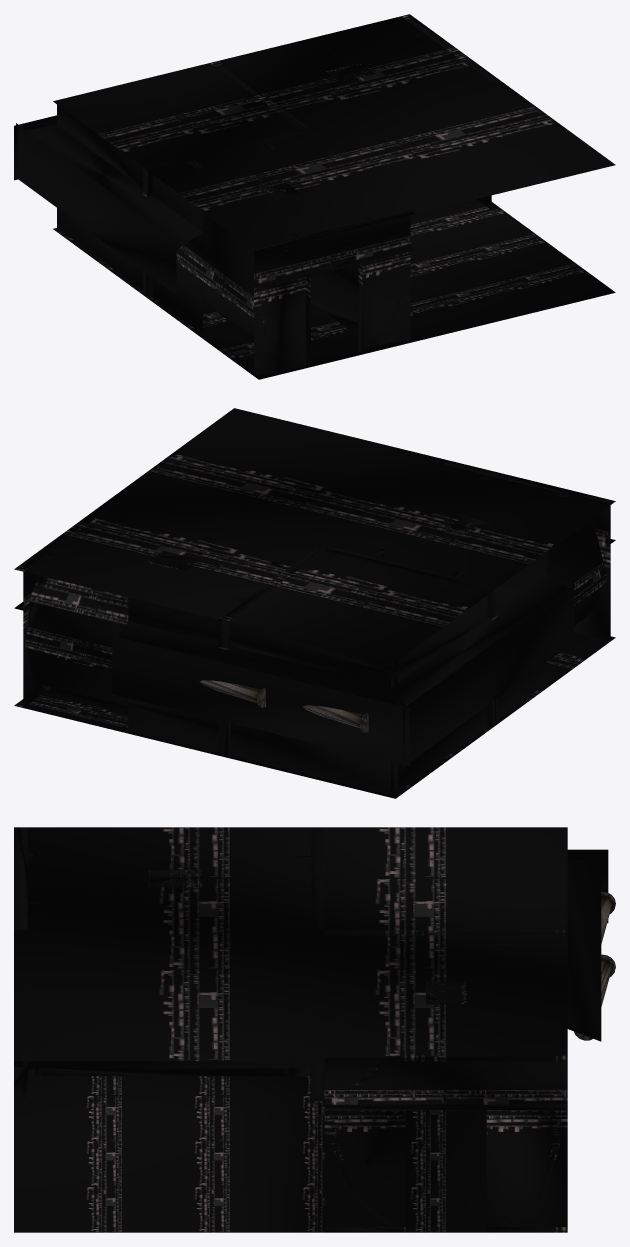
The model's file is room2Ctunnel_opt.obj.
3 views of the same model, one above another, from view 1: azimuth 30°, elevation 25°; view 2: azimuth 150°, elevation 25°; view 3: azimuth 270°, elevation 25° (orthographic). The views are drawn at different scales.
Size of the model in its own units: 70.4 by 22.4 by 71.32.
Materials: 7 (7 with a texture image).
